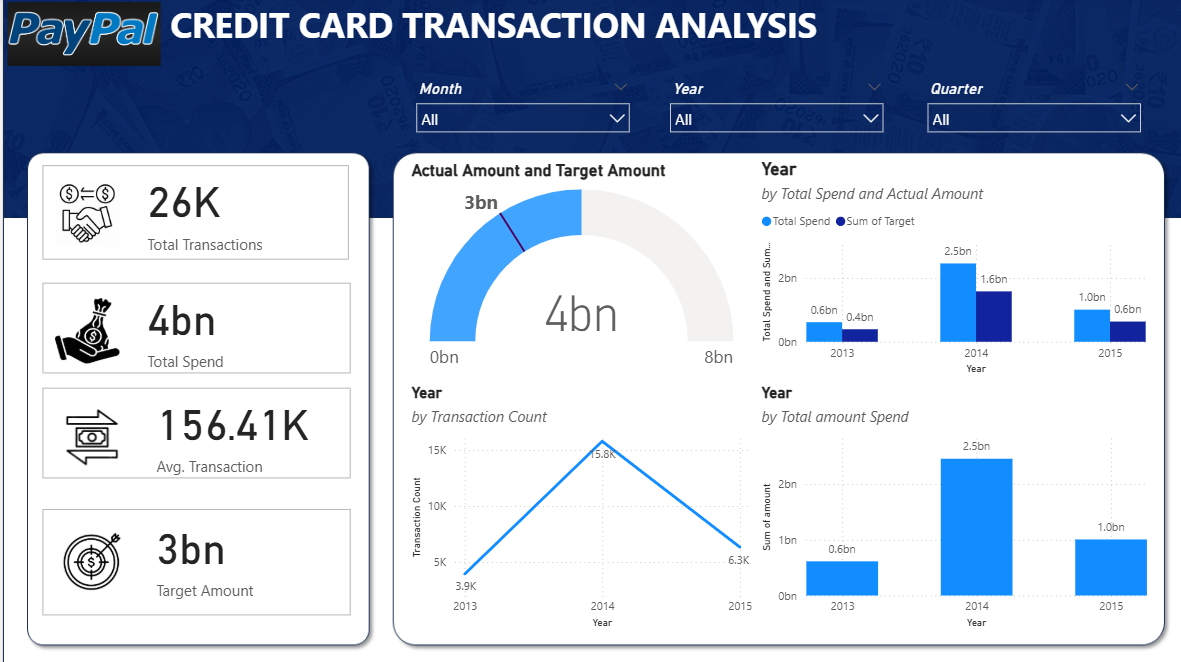

The page's visual inventory and layout, read from the dashboard file:
{"tool":"powerbi","page":{"name":"Trend Analysis","canvas":[1280,720],"ordinal":0},"visuals":[{"type":"cardVisual","title":"Total Transactions","fields":{"Data":["CountNonNull(credit_card_transactions.transaction_id)"]},"box":[37.8,176.9,341.7,112.1],"z":0},{"type":"cardVisual","title":"Total Transactions","fields":{"Data":["credit_card_transactions.Total Spend"]},"box":[37.8,303.9,343,108],"z":1000},{"type":"lineChart","title":" Year","fields":{"Y":["credit_card_transactions.Transaction Count"],"Category":["credit_card_transactions.transaction_date.Variation.Date Hierarchy.Year"]},"box":[436.2,417.3,378.1,268.7],"z":2000},{"type":"clusteredColumnChart","title":"Year","fields":{"Y":["credit_card_transactions.Total Spend","Sum(credit_card_transactions.Target)"],"Category":["credit_card_transactions.transaction_date.Variation.Date Hierarchy.Year"]},"box":[814.4,174.2,425.4,237.7],"z":3000},{"type":"image","box":[0,0,175.6,79.7],"z":4000},{"type":"gauge","title":"Actual Amount and Target Amount","fields":{"Y":["Sum(credit_card_transcations.amount)"],"TargetValue":["Sum(credit_card_transcations.Target)"]},"box":[436.2,176.9,378.1,235],"z":5000},{"type":"slicer","title":"Gender","fields":{"Values":["credit_card_transactions.transaction_date.Variation.Date Hierarchy.Year"]},"box":[710.4,83.7,251.2,83.7],"z":6000},{"type":"slicer","title":"Gender","fields":{"Values":["credit_card_transactions.card_type"]},"box":[436.2,83.7,251.2,83.7],"z":7000},{"type":"slicer","title":"Gender","fields":{"Values":["credit_card_transactions.transaction_date.Variation.Date Hierarchy.Quarter"]},"box":[988.6,83.7,251.2,83.7],"z":8000},{"type":"textbox","box":[175.6,0,861.6,83.7],"z":9000},{"type":"cardVisual","title":"Total Transactions","fields":{"Data":["credit_card_transactions.Avg. Transaction"]},"box":[37.8,417.3,343,108],"z":10000},{"type":"clusteredColumnChart","title":"Year","fields":{"Category":["credit_card_transactions.transaction_date.Variation.Date Hierarchy.Year"],"Y":["Sum(credit_card_transactions.amount)"]},"box":[814.4,417.3,426.8,268.7],"z":11000},{"type":"cardVisual","title":"Total Transactions","fields":{"Data":["Sum(credit_card_transactions.Target)"]},"box":[37.8,548.3,343,125.6],"z":12000}]}

Visuals, with their boxes in screenshot pixels (x1, y1, x2, y2), scaled from the page's 1280x720 canvas onto the 1181x662 screenshot:
"Total Transactions" cardVisual: (35,163,350,266)
"Total Transactions" cardVisual: (35,279,351,379)
" Year" lineChart: (402,384,751,631)
"Year" clusteredColumnChart: (751,160,1144,379)
image: (0,0,162,73)
"Actual Amount and Target Amount" gauge: (402,163,751,379)
"Gender" slicer: (655,77,887,154)
"Gender" slicer: (402,77,634,154)
"Gender" slicer: (912,77,1144,154)
textbox: (162,0,957,77)
"Total Transactions" cardVisual: (35,384,351,483)
"Year" clusteredColumnChart: (751,384,1145,631)
"Total Transactions" cardVisual: (35,504,351,620)
